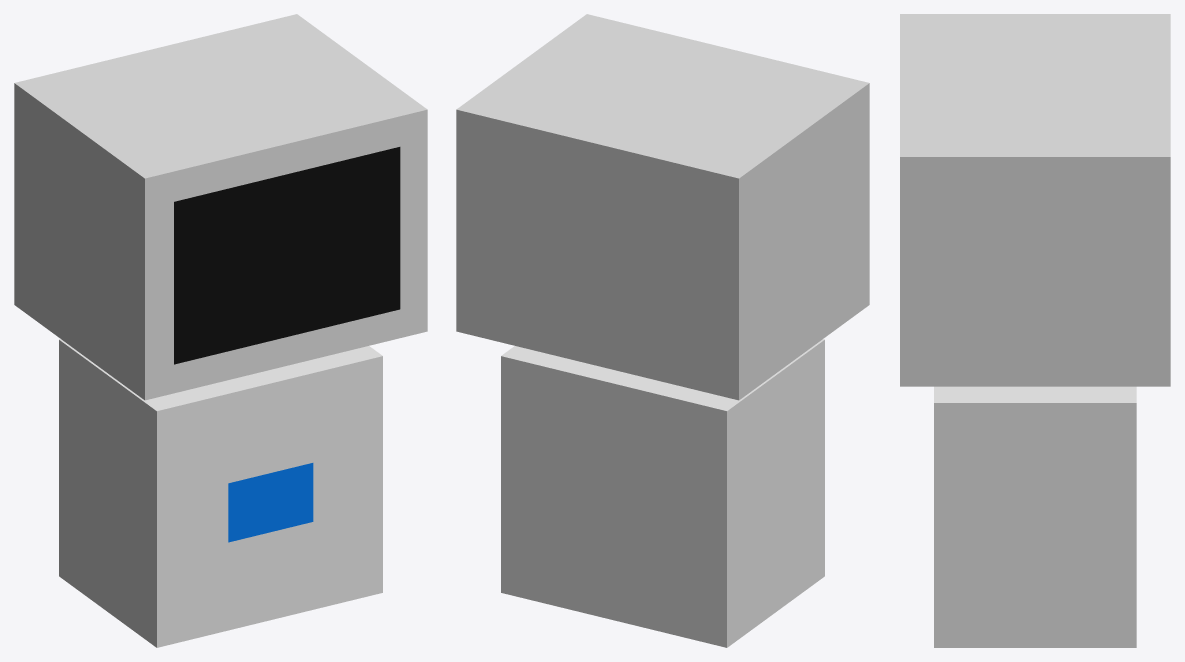
File: cute_robot.obj
3 renders of one model, left to right at view 1: azimuth 30°, elevation 25°; view 2: azimuth 150°, elevation 25°; view 3: azimuth 270°, elevation 25°, orthographic. The views are drawn at different scales.
Bounding box in the file's own units: 2 × 3.3 × 1.61.
